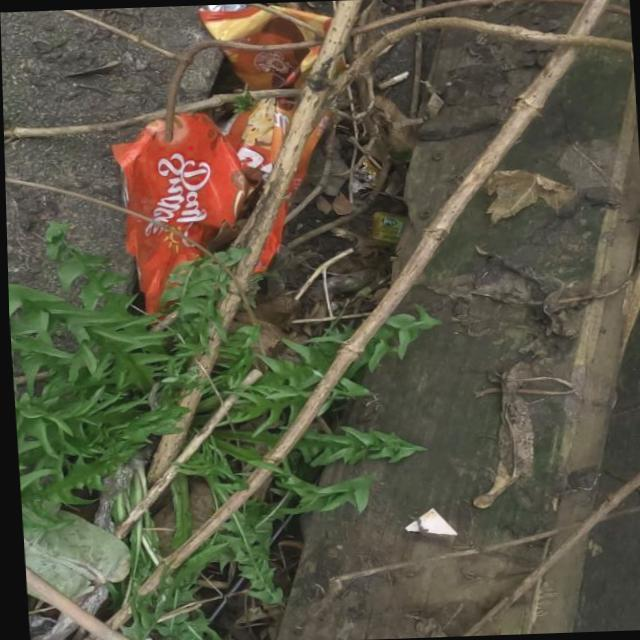Plastic: (97, 0, 368, 328)
